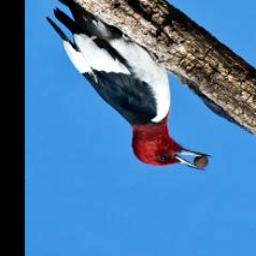Woodpecker: (44, 2, 214, 175)
